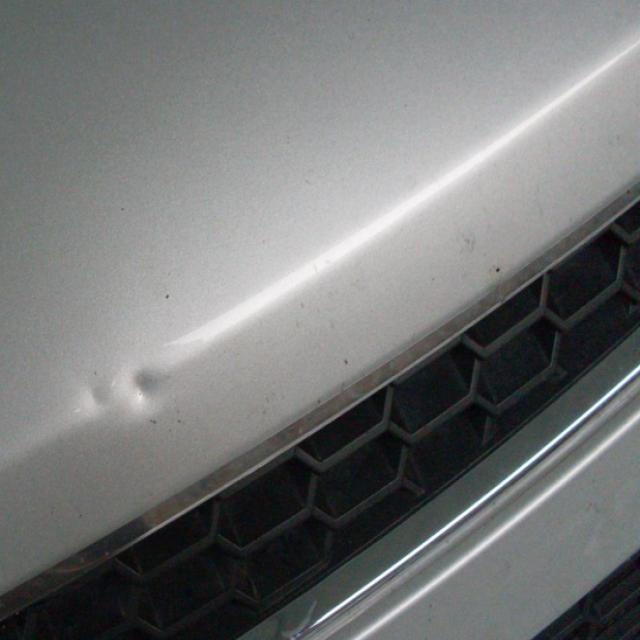dents: (56, 354, 191, 409)
